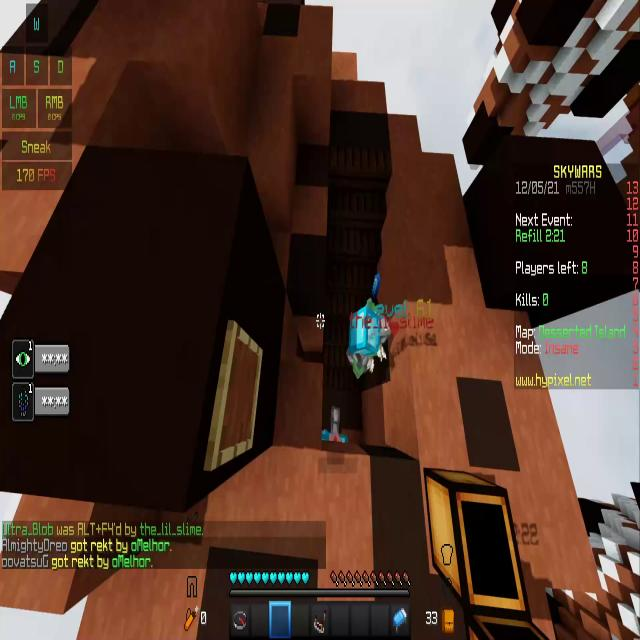Player: (345, 288, 391, 391), (320, 403, 350, 454)
